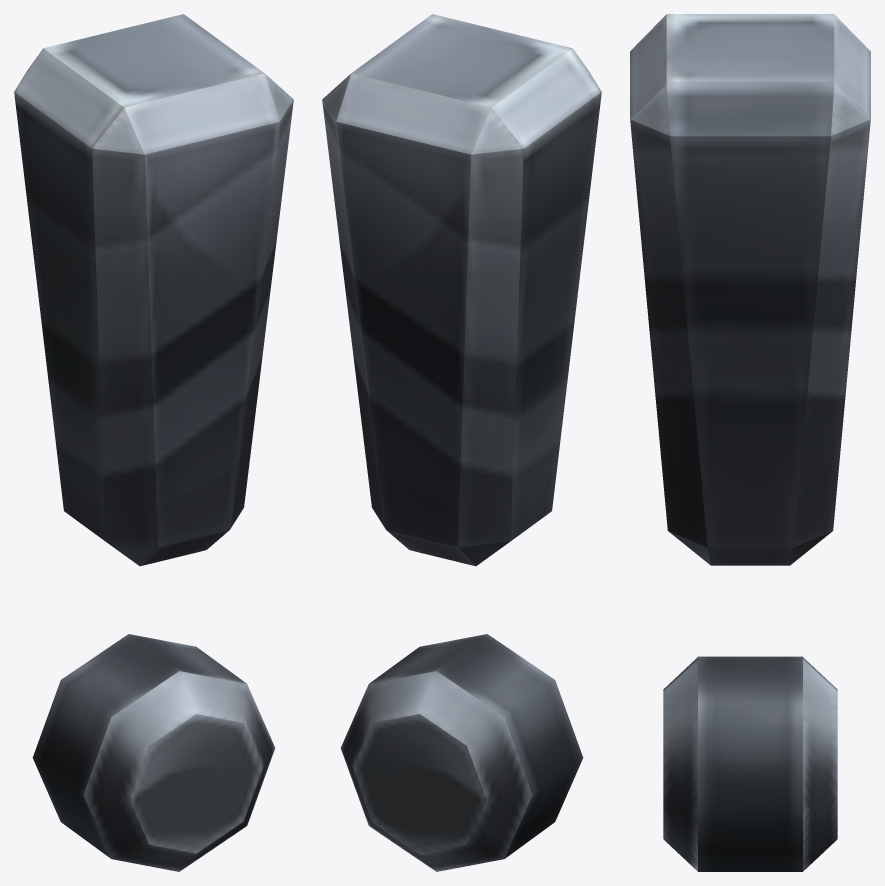
File: TanHao.FBX
3 renders of one model, left to right at view 1: azimuth 30°, elevation 25°; view 2: azimuth 150°, elevation 25°; view 3: azimuth 270°, elevation 25°, orthographic. The views are drawn at different scales.
Parts seen in each view (by area): view 1: tanhao; view 2: tanhao; view 3: tanhao.
Boxes of the visible parts, <box> form: tanhao: <box>14,14,293,871</box>; tanhao: <box>322,14,601,871</box>; tanhao: <box>630,14,870,871</box>.
Size of the model in its own units: 15.13 by 56.79 by 15.13.
